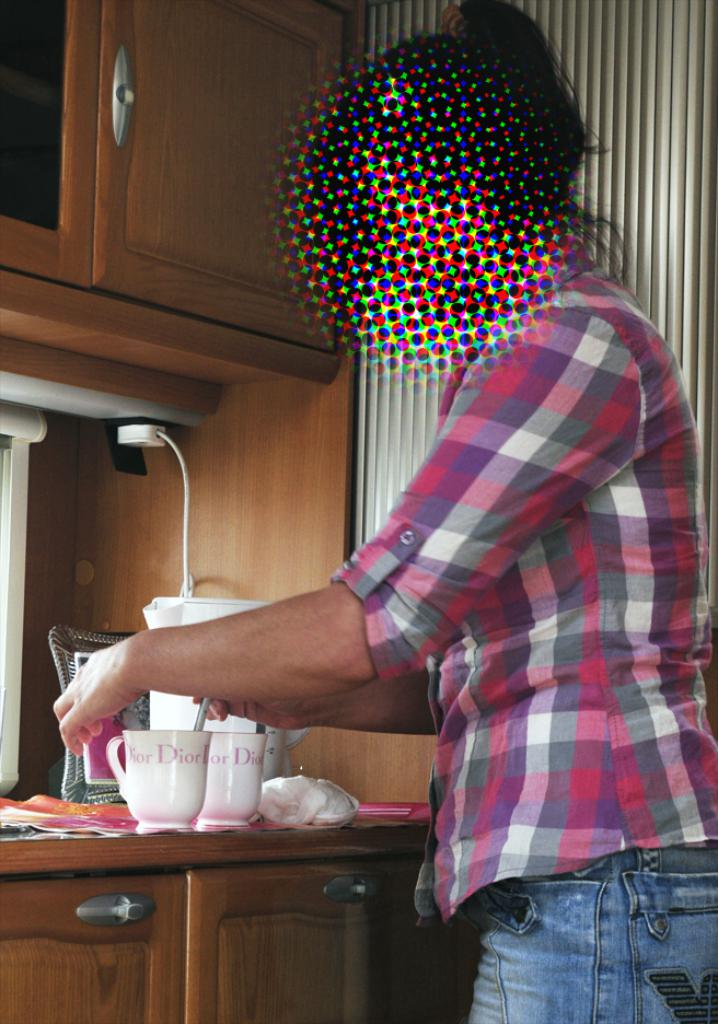cabinet door: (113, 26, 316, 296), (6, 879, 178, 1024), (185, 883, 358, 1013)
handle: (77, 883, 151, 930), (324, 873, 383, 922), (117, 71, 139, 125)
